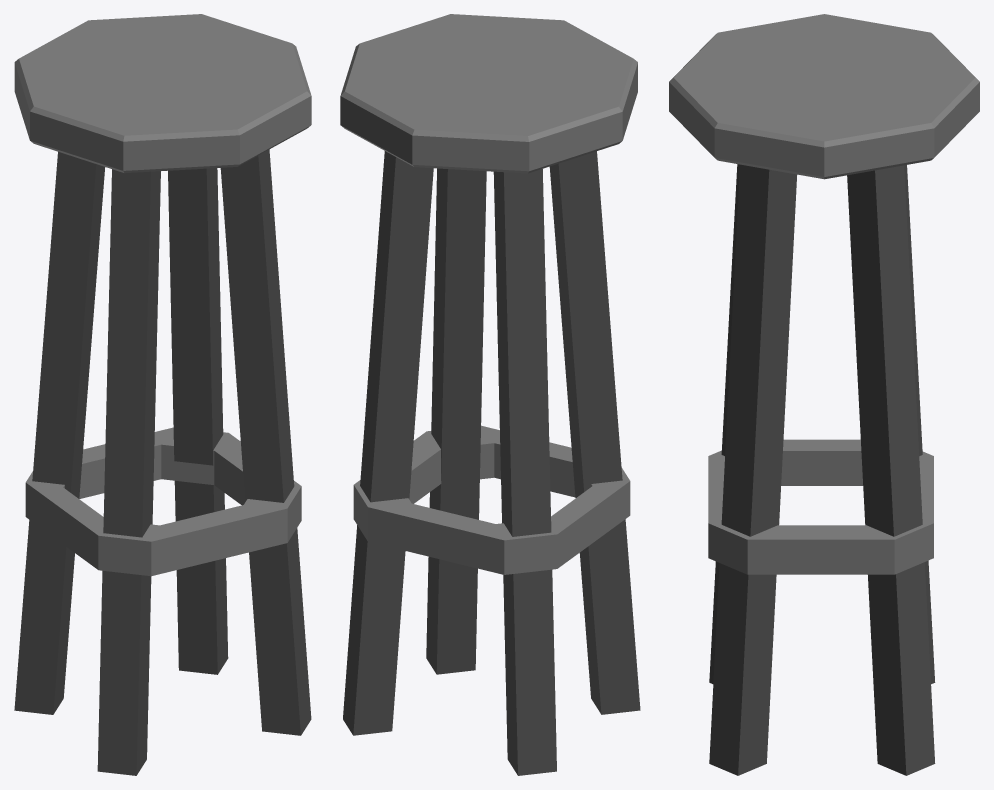
File: stool_A.FBX
The picture shows the model from 3 angles, left to right: view 1: azimuth 30°, elevation 25°; view 2: azimuth 150°, elevation 25°; view 3: azimuth 270°, elevation 25°; orthographic projection.
Parts seen in each view (by area): view 1: stool_A; view 2: stool_A; view 3: stool_A.
Boxes of the visible parts, box(x1,y1,x2,y2) form: stool_A: box(14, 14, 311, 775); stool_A: box(340, 14, 640, 775); stool_A: box(669, 14, 979, 775).
Size of the model in its own units: 20.88 by 47.88 by 20.88.
